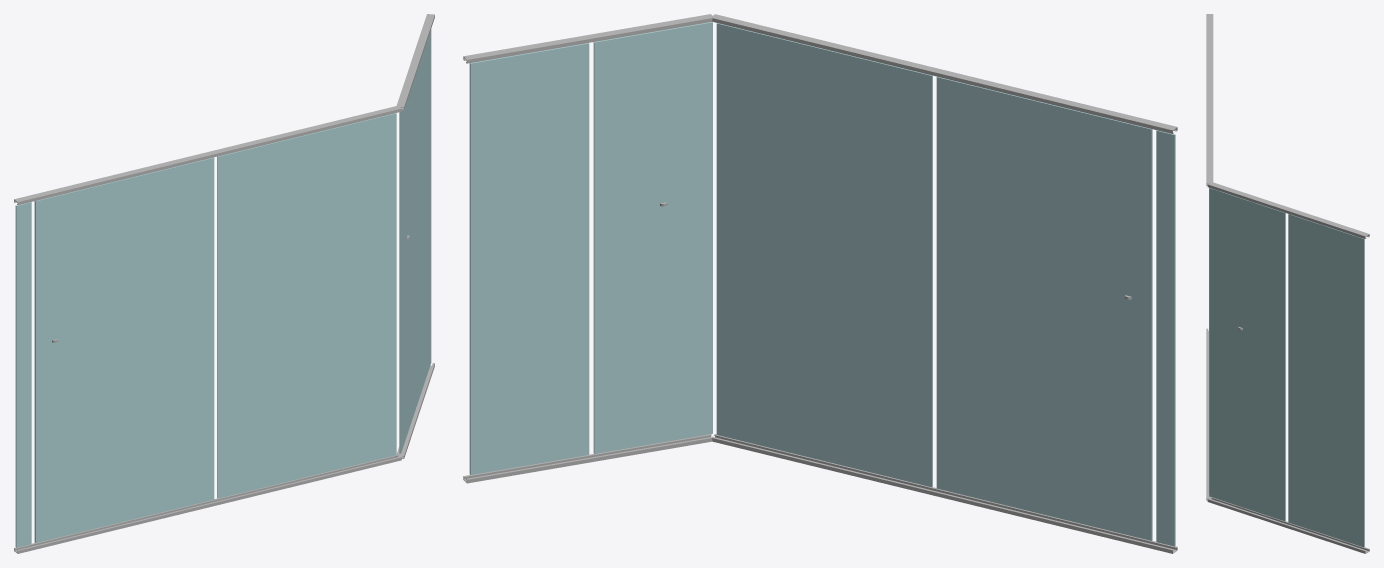
File: model_lumon.glb
3 views of the same model, side by side, from view 1: azimuth 30°, elevation 25°; view 2: azimuth 150°, elevation 25°; view 3: azimuth 270°, elevation 25° (orthographic). The views are drawn at different scales.
Visible parts, largest first — view 1: object 4, object 5, next_win, object 3, object 2, object 1; view 2: next_win, object 5, object 4, object 3, object 2, object 1; view 3: next_win, object 2, object 1, object 5.
Boxes of the visible parts, x1=… form: object 4: x1=34, y1=157, x2=214, y2=542; object 5: x1=217, y1=113, x2=396, y2=498; next_win: x1=396, y1=14, x2=434, y2=458; object 3: x1=15, y1=202, x2=31, y2=547; object 2: x1=14, y1=106, x2=401, y2=204; object 1: x1=14, y1=454, x2=401, y2=553; next_win: x1=463, y1=14, x2=713, y2=483; object 5: x1=716, y1=23, x2=932, y2=487; object 4: x1=936, y1=76, x2=1152, y2=540; object 3: x1=1156, y1=130, x2=1175, y2=546; object 2: x1=712, y1=14, x2=1177, y2=133; object 1: x1=710, y1=434, x2=1177, y2=553; next_win: x1=1207, y1=182, x2=1369, y2=553; object 2: x1=1206, y1=14, x2=1213, y2=185; object 1: x1=1206, y1=328, x2=1213, y2=500; object 5: x1=1209, y1=187, x2=1209, y2=493.
Size of the model in its own units: 2.63 by 1.75 by 0.8171.
